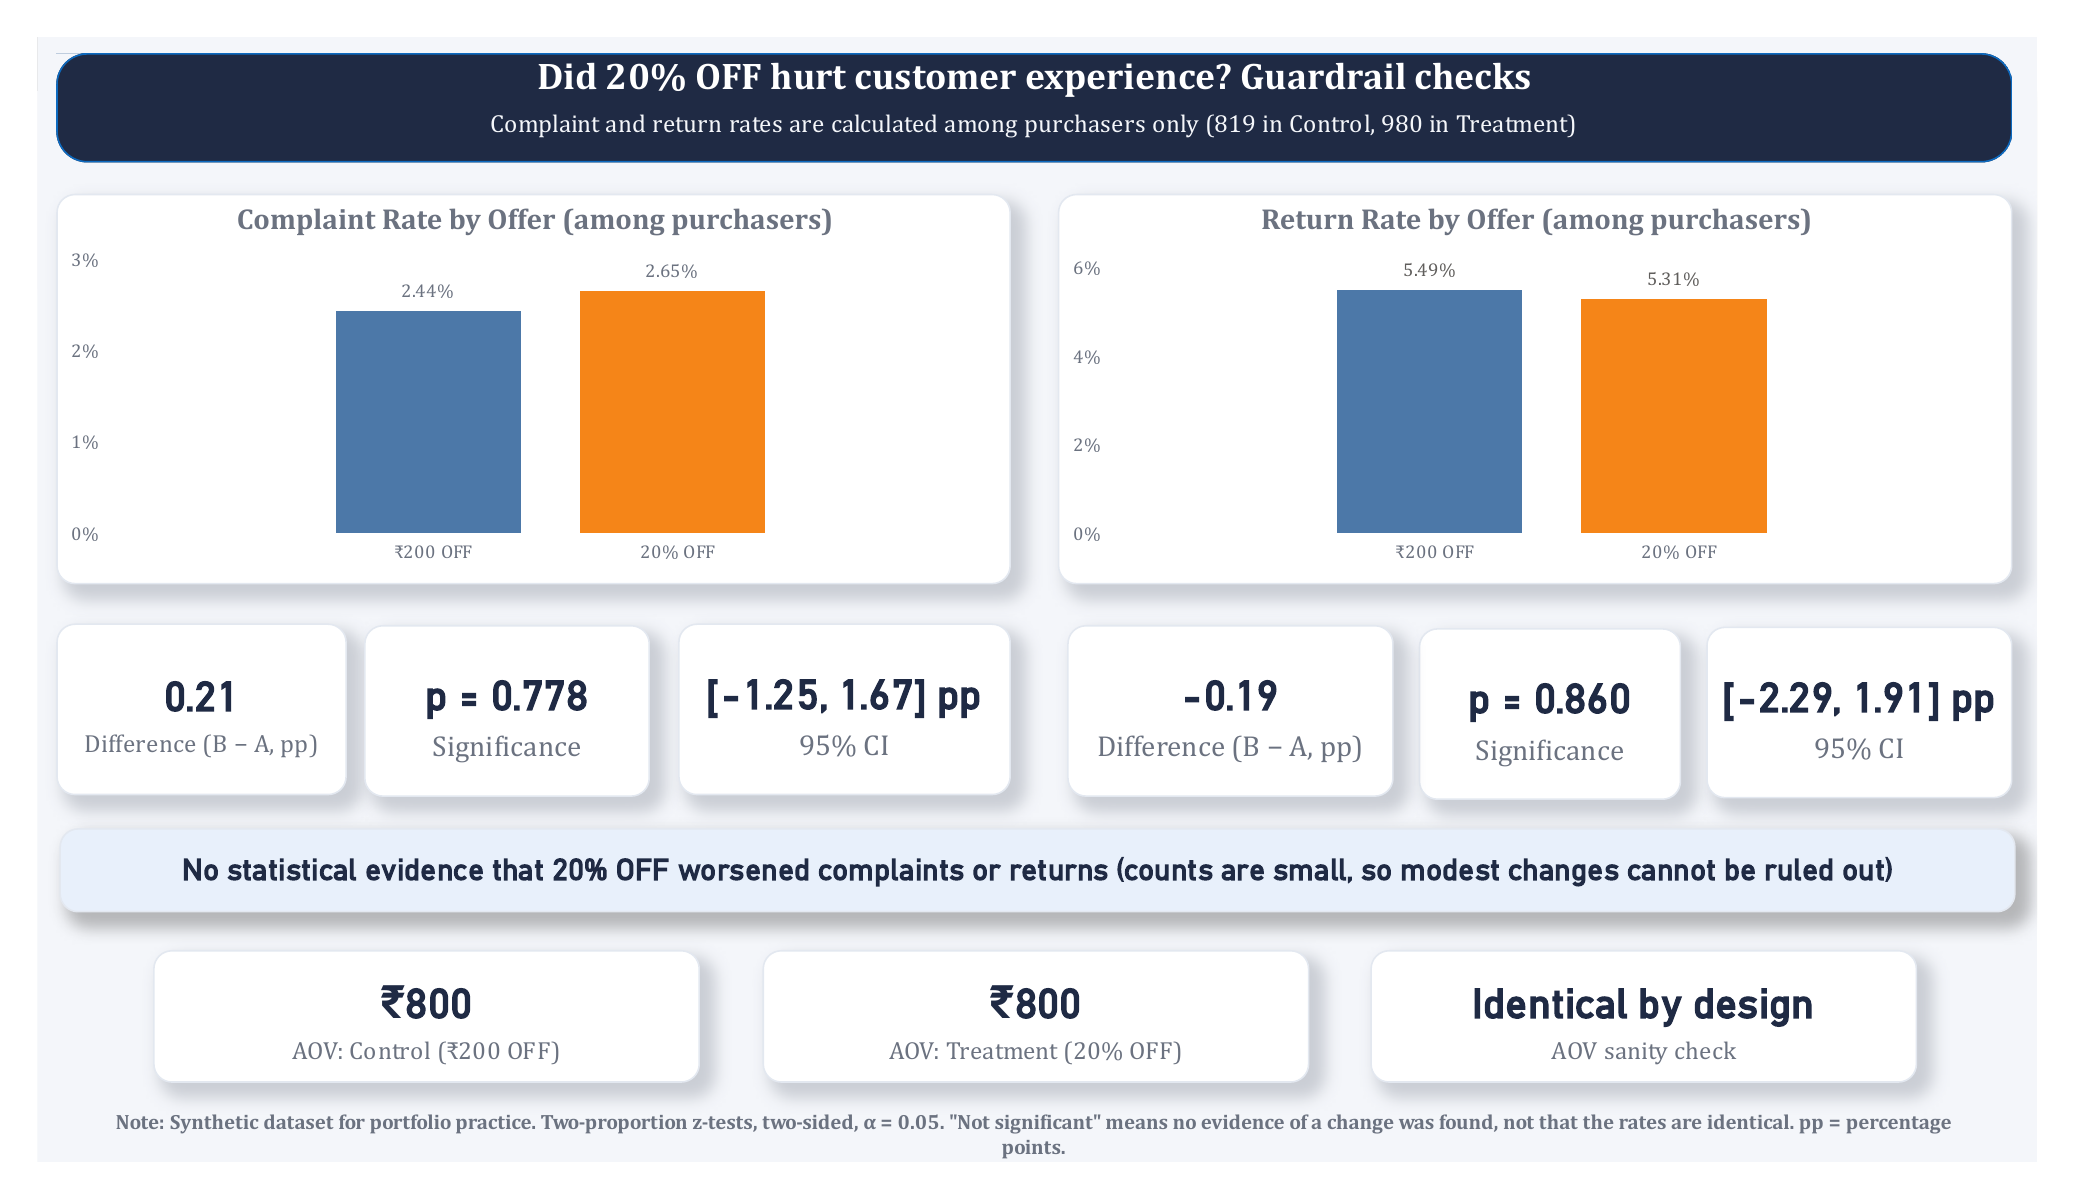

The page's visual inventory and layout, read from the dashboard file:
{"tool":"powerbi","page":{"name":"Guardrails","canvas":[1280,720],"ordinal":2},"visuals":[{"type":"shape","box":[12.1,9.7,1252.3,70],"z":0},{"type":"textbox","box":[220.8,41,833.7,38.6],"z":1000},{"type":"card","fields":{"Values":["ecommerce_discount_ab_test.Complaint Diff (pp)"]},"box":[11.8,374.6,186.7,110.4],"z":2000},{"type":"card","fields":{"Values":["ecommerce_discount_ab_test.Return P Text"]},"box":[883.6,377.8,168.2,110],"z":3000},{"type":"card","fields":{"Values":["ecommerce_discount_ab_test.Return CI Text"]},"box":[1067.7,377.3,196.6,110],"z":4000},{"type":"card","fields":{"Values":["ecommerce_discount_ab_test.Return Diff (pp)"]},"box":[658.7,376.5,209,110],"z":5000},{"type":"card","fields":{"Values":["ecommerce_discount_ab_test.Complaint P Text"]},"box":[209,375.9,182.7,110.4],"z":6000},{"type":"card","fields":{"Values":["ecommerce_discount_ab_test.Complaint CI Text"]},"box":[410.1,374.6,212.9,110.4],"z":7000},{"type":"card","fields":{"Values":["ecommerce_discount_ab_test.AOV A Text"]},"box":[73.6,583.9,350,85],"z":8000},{"type":"card","fields":{"Values":["ecommerce_discount_ab_test.AOV B Text"]},"box":[464.3,583.9,349.6,85],"z":9000},{"type":"card","fields":{"Values":["ecommerce_discount_ab_test.Guardrail Verdict"]},"box":[14.5,506.1,1251.3,53.9],"z":10000},{"type":"clusteredColumnChart","title":"Complaint Rate by Offer (among purchasers)","fields":{"Category":["ecommerce_discount_ab_test.Offer"],"Y":["ecommerce_discount_ab_test.Complaint Rate"]},"box":[11.8,99.9,611.2,249.7],"z":11000},{"type":"clusteredColumnChart","title":"Return Rate by Offer (among purchasers)","fields":{"Category":["ecommerce_discount_ab_test.Offer"],"Y":["ecommerce_discount_ab_test.Return Rate"]},"box":[653.3,99.9,611.2,249.7],"z":12000},{"type":"shape","box":[28.9,686.1,1217.2,34.2],"z":13000},{"type":"card","fields":{"Values":["ecommerce_discount_ab_test.AOV Check"]},"box":[853.3,583.9,349.6,85],"z":14000}]}

Visuals, with their boxes on the page's 1280x720 design canvas (x1, y1, x2, y2). These are canvas units, not pixel positions in the 2075x1200 screenshot, which may show the page scaled, cropped or inside an application window:
shape: x1=12 y1=10 x2=1264 y2=80
textbox: x1=221 y1=41 x2=1054 y2=80
card - ecommerce_discount_ab_test.Complaint Diff (pp): x1=12 y1=375 x2=198 y2=485
card - ecommerce_discount_ab_test.Return P Text: x1=884 y1=378 x2=1052 y2=488
card - ecommerce_discount_ab_test.Return CI Text: x1=1068 y1=377 x2=1264 y2=487
card - ecommerce_discount_ab_test.Return Diff (pp): x1=659 y1=376 x2=868 y2=486
card - ecommerce_discount_ab_test.Complaint P Text: x1=209 y1=376 x2=392 y2=486
card - ecommerce_discount_ab_test.Complaint CI Text: x1=410 y1=375 x2=623 y2=485
card - ecommerce_discount_ab_test.AOV A Text: x1=74 y1=584 x2=424 y2=669
card - ecommerce_discount_ab_test.AOV B Text: x1=464 y1=584 x2=814 y2=669
card - ecommerce_discount_ab_test.Guardrail Verdict: x1=14 y1=506 x2=1266 y2=560
"Complaint Rate by Offer (among purchasers)" clusteredColumnChart: x1=12 y1=100 x2=623 y2=350
"Return Rate by Offer (among purchasers)" clusteredColumnChart: x1=653 y1=100 x2=1264 y2=350
shape: x1=29 y1=686 x2=1246 y2=720
card - ecommerce_discount_ab_test.AOV Check: x1=853 y1=584 x2=1203 y2=669
